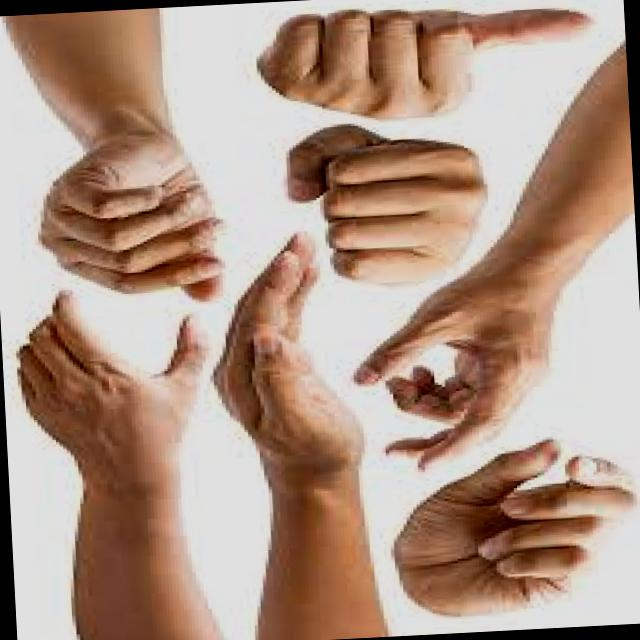Hand: (344, 274, 596, 478), (385, 433, 640, 626), (247, 0, 610, 128), (194, 224, 376, 471), (280, 114, 510, 292), (23, 127, 236, 311), (12, 276, 220, 460)
